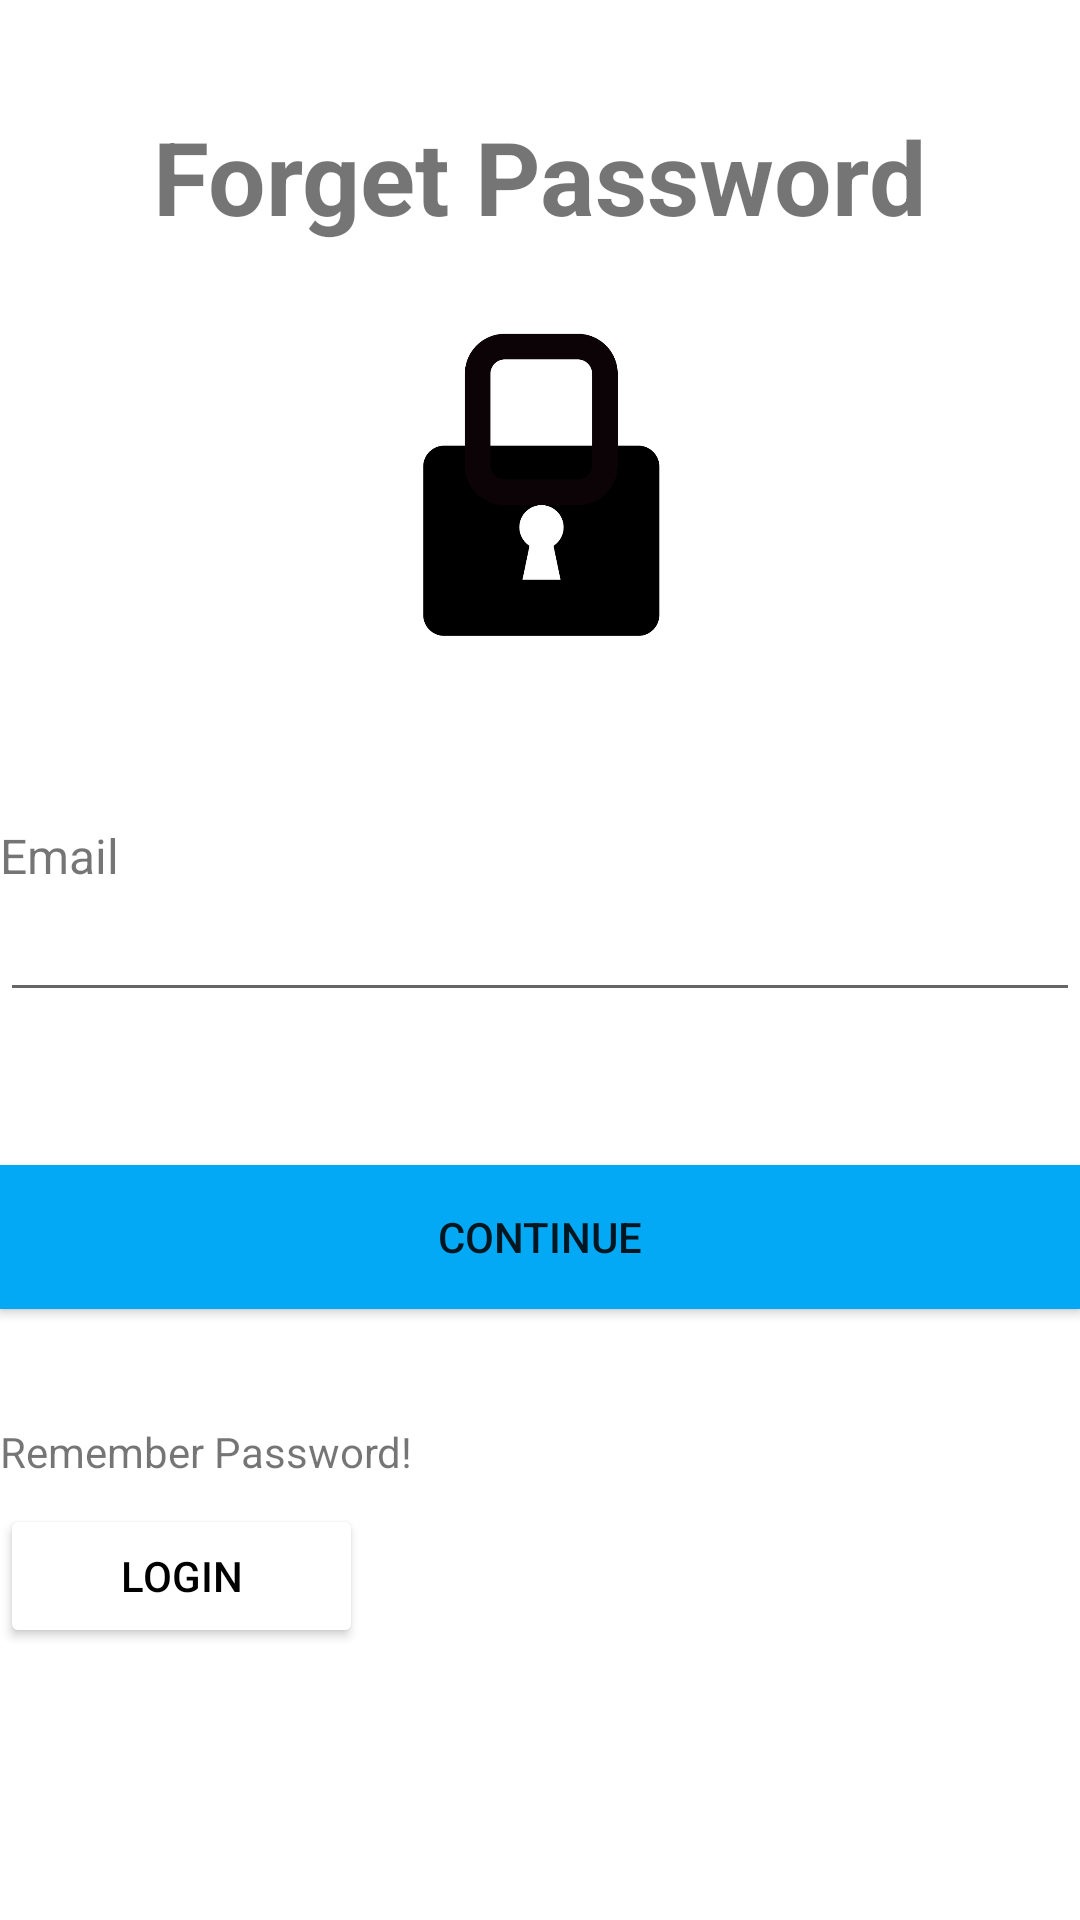

Icons on this 1080*1920 Android screen, each with the point to tap as point (x, y):
lock: point (541, 485)
